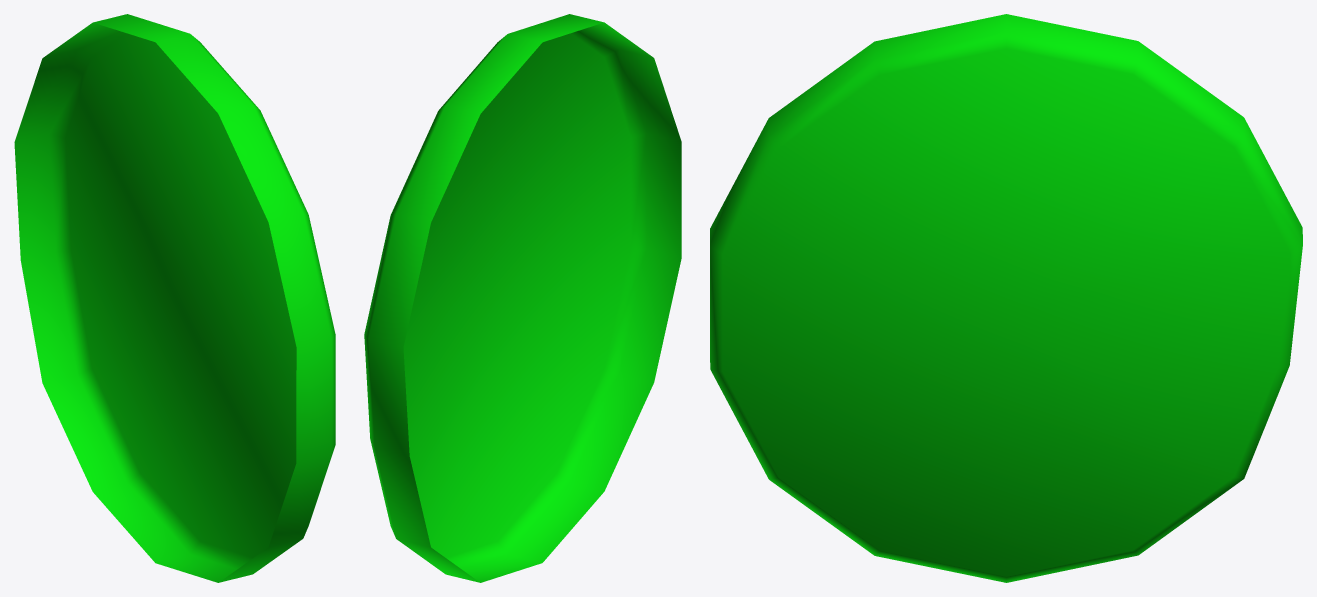
Rendered from saunaButtonButton.fbx.
3 renders of one model, left to right at view 1: azimuth 30°, elevation 25°; view 2: azimuth 150°, elevation 25°; view 3: azimuth 270°, elevation 25°, orthographic. The views are drawn at different scales.
Visible parts, largest first — view 1: onBtuttonShower.001; view 2: onBtuttonShower.001; view 3: onBtuttonShower.001.
Part boxes in pixels (x1,y1,x2,y2): onBtuttonShower.001: (14, 14, 335, 582); onBtuttonShower.001: (364, 14, 681, 582); onBtuttonShower.001: (710, 14, 1302, 582).
Bounding box in the file's own units: 0.6886 × 7.32 × 7.14.
